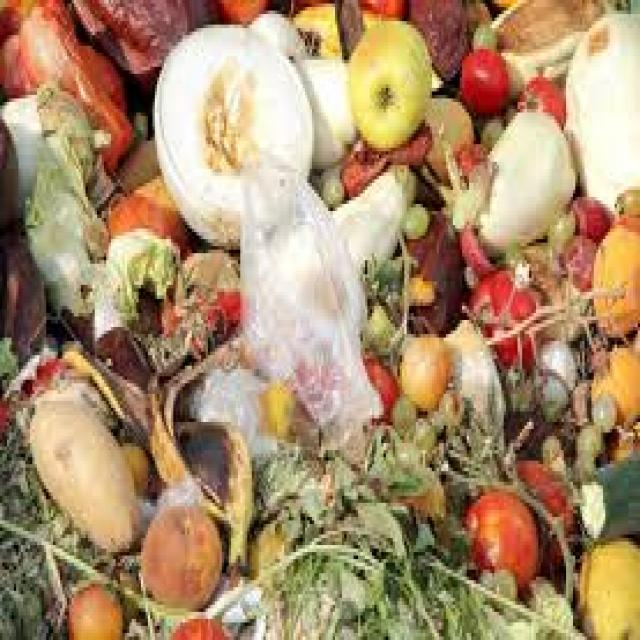organic waste: (254, 446, 580, 636), (60, 334, 252, 577), (150, 18, 312, 242), (0, 0, 141, 179), (25, 390, 141, 552), (23, 137, 106, 320), (564, 7, 638, 211), (474, 106, 575, 253), (0, 80, 99, 214), (492, 0, 637, 91), (66, 0, 219, 84), (23, 492, 99, 636), (346, 18, 429, 148), (157, 243, 240, 355), (446, 316, 506, 461), (139, 503, 224, 605), (462, 485, 538, 598), (0, 404, 37, 636), (400, 204, 464, 338), (462, 264, 541, 366), (513, 457, 575, 573), (220, 580, 344, 637), (570, 534, 638, 636), (130, 299, 220, 376), (337, 120, 430, 194), (32, 81, 104, 176), (0, 225, 44, 380), (289, 56, 353, 162), (99, 176, 187, 253), (411, 0, 490, 81), (499, 24, 582, 99), (434, 126, 494, 228), (589, 225, 638, 334), (111, 221, 178, 299), (578, 450, 638, 535), (395, 331, 453, 412), (423, 92, 471, 180), (587, 345, 638, 422), (504, 408, 575, 457), (392, 460, 443, 528), (111, 130, 164, 194), (92, 253, 130, 341), (64, 580, 122, 637), (245, 7, 307, 56), (358, 302, 402, 370), (289, 0, 342, 56), (455, 49, 504, 109), (248, 517, 294, 580), (497, 236, 561, 281), (361, 250, 406, 313), (358, 348, 395, 422), (515, 70, 564, 123), (566, 190, 610, 243), (118, 439, 155, 496), (534, 334, 575, 383), (559, 232, 596, 285), (531, 362, 566, 415), (552, 288, 592, 334), (0, 112, 16, 222), (457, 225, 490, 274), (545, 200, 573, 250), (455, 141, 488, 183), (358, 0, 409, 25), (504, 362, 534, 404), (409, 412, 437, 457), (215, 0, 273, 21), (168, 616, 228, 636), (388, 390, 416, 432), (338, 0, 360, 53), (464, 0, 488, 46), (612, 183, 638, 225), (582, 331, 606, 376), (587, 390, 614, 429), (400, 197, 427, 236), (571, 422, 603, 450), (436, 387, 459, 425), (478, 112, 502, 148), (568, 376, 587, 418), (469, 18, 494, 49), (407, 271, 432, 302), (538, 433, 562, 464), (316, 176, 342, 204), (0, 331, 16, 376), (508, 257, 532, 281), (573, 457, 591, 475), (316, 162, 338, 176), (305, 169, 321, 186), (488, 0, 510, 7)
